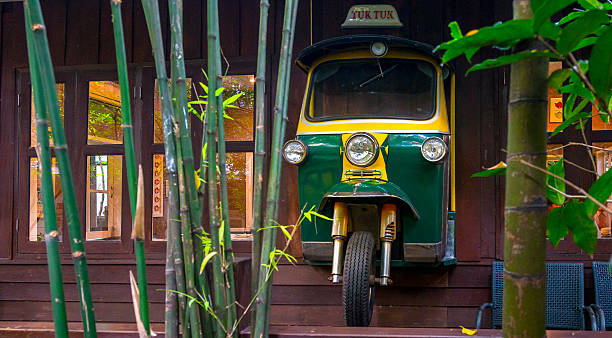threewheel: (282, 36, 457, 327)
